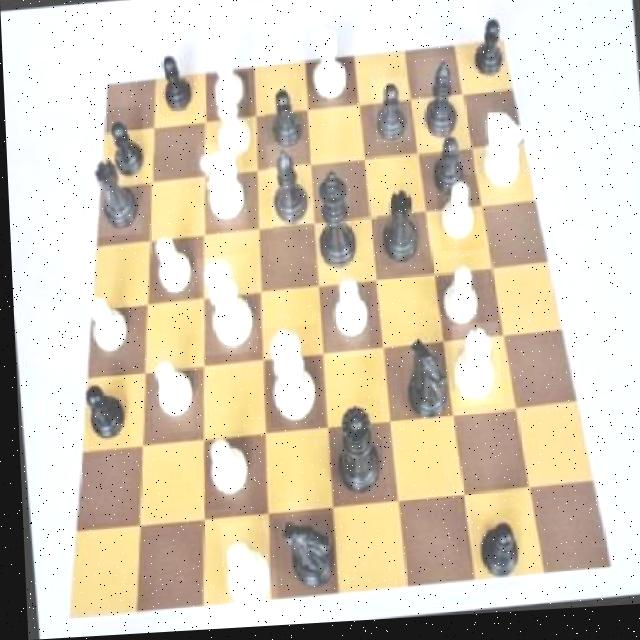bishop: (414, 60, 466, 155), (266, 146, 312, 237)
black-bishop: (305, 156, 360, 285)
black-king: (270, 516, 338, 603), (394, 333, 452, 431)
black-knight: (465, 514, 520, 597), (260, 81, 310, 163), (421, 135, 472, 209), (469, 9, 512, 95), (102, 108, 144, 189), (81, 381, 127, 454), (153, 46, 198, 118), (371, 81, 410, 149)
black-pawn: (325, 402, 383, 509)
black-queen: (83, 155, 139, 239), (373, 187, 427, 272)
black-rook: (216, 522, 273, 622), (203, 74, 253, 174)
white-bishop: (259, 327, 320, 432)
white-king: (477, 103, 528, 207), (194, 143, 244, 231)
white-knight: (317, 265, 368, 362), (143, 348, 199, 435), (197, 432, 253, 512), (79, 293, 136, 371), (144, 224, 196, 305), (434, 263, 484, 344), (433, 180, 482, 259), (207, 44, 252, 120)
white-pawn: (195, 256, 256, 359)
white-queen: (448, 326, 500, 413), (303, 25, 358, 106)
